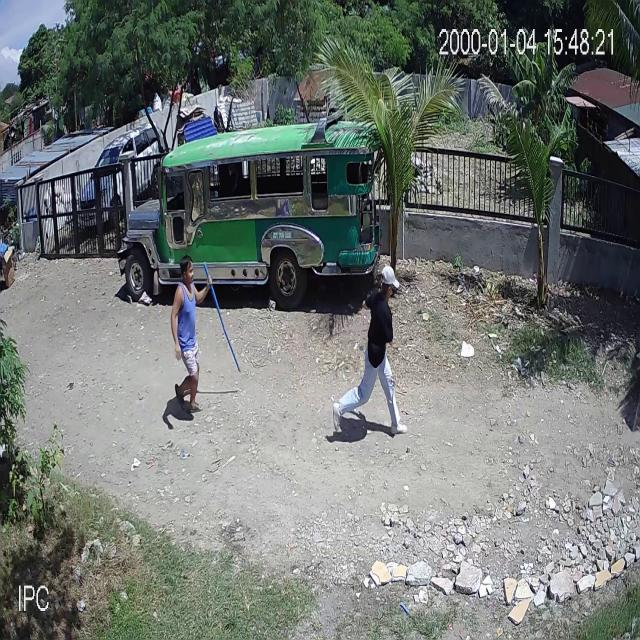running: (332, 264, 406, 436), (171, 256, 240, 413)
